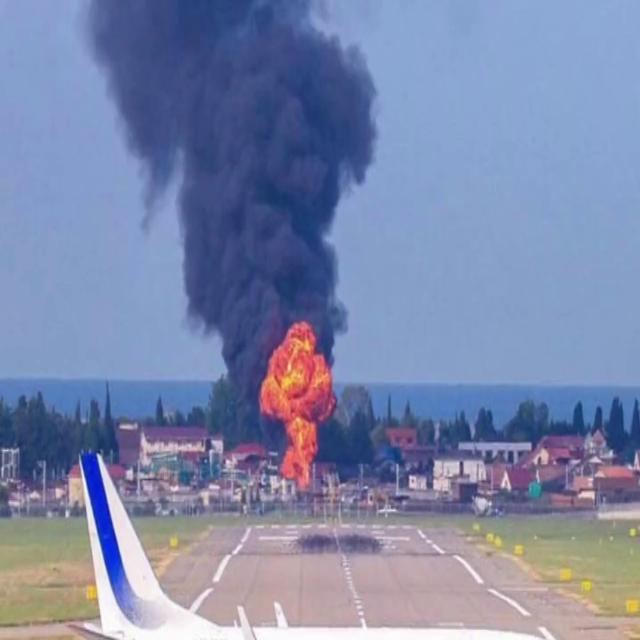Fire: (266, 324, 337, 488)
Smoke: (98, 0, 380, 440)
